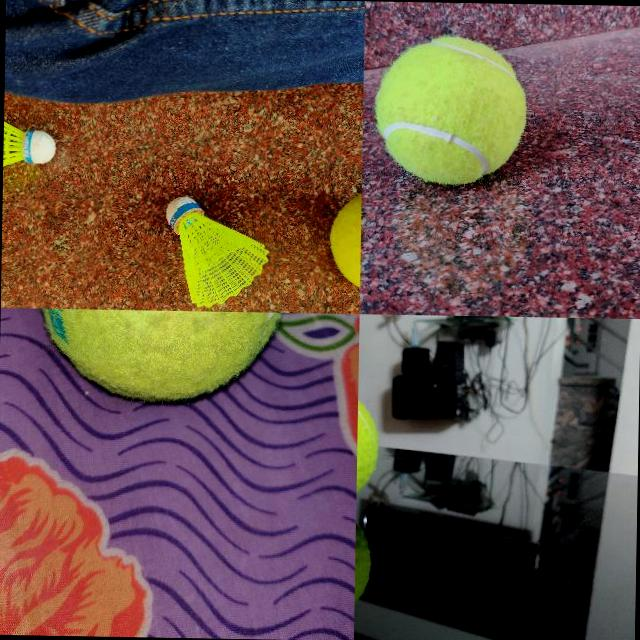Tennis Ball: (32, 308, 286, 404), (374, 34, 527, 185), (328, 185, 362, 296)
